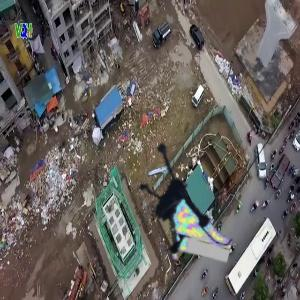drone: (112, 130, 243, 261)
